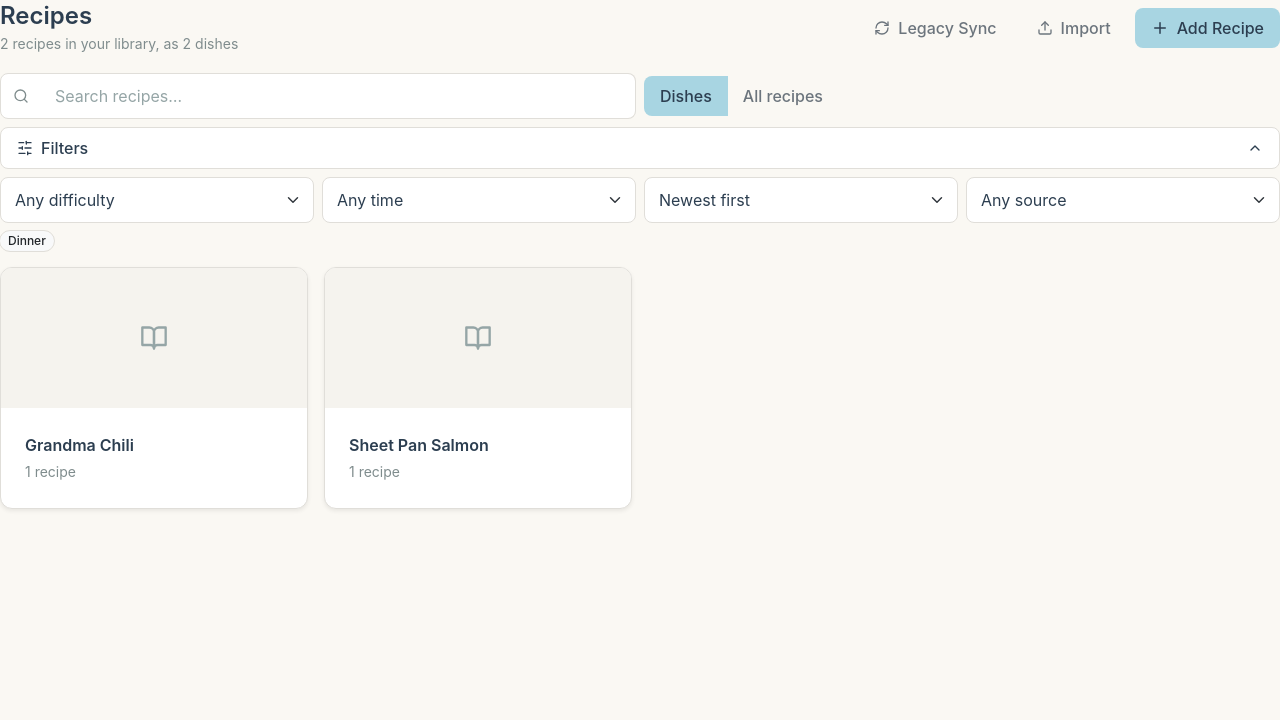
Recipes page — deleting › asks before deleting
The width and height of the screenshot is (1280, 720).
Click the button "All recipes": (783, 96) [727,76,839,116]
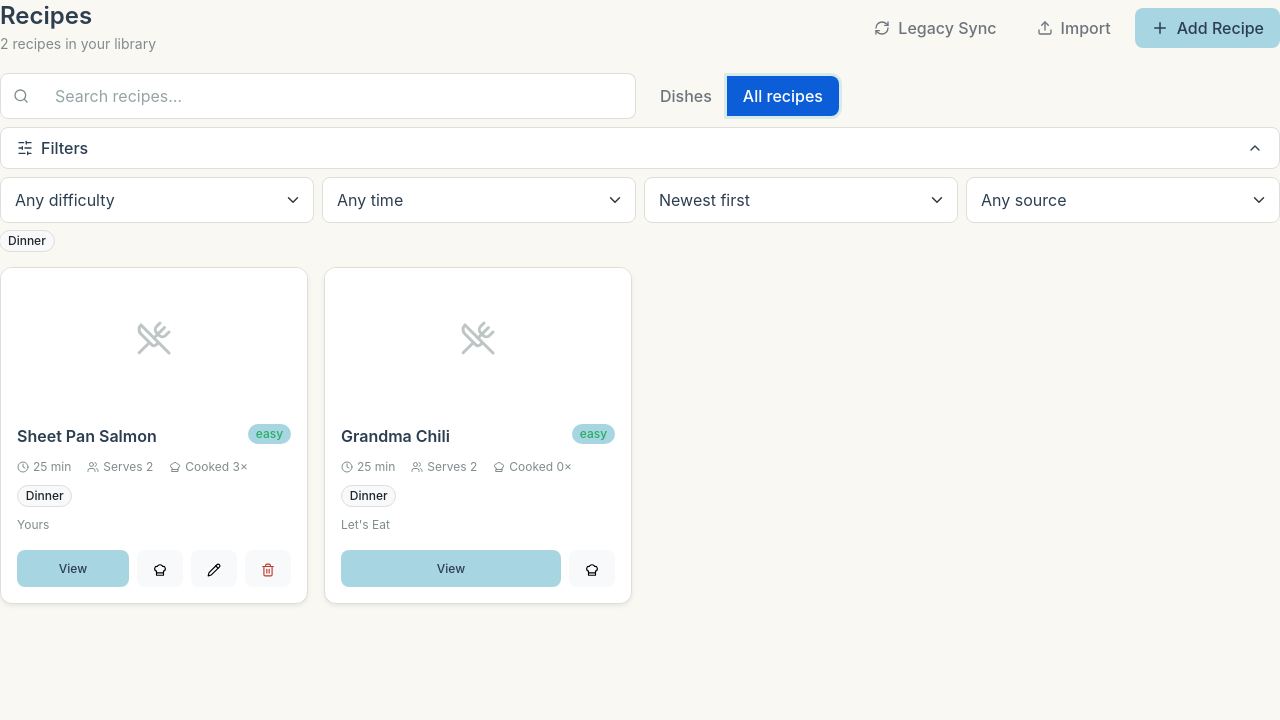
Click the button named "Delete Sheet Pan Salmon": (268, 569) [245,550,291,587]
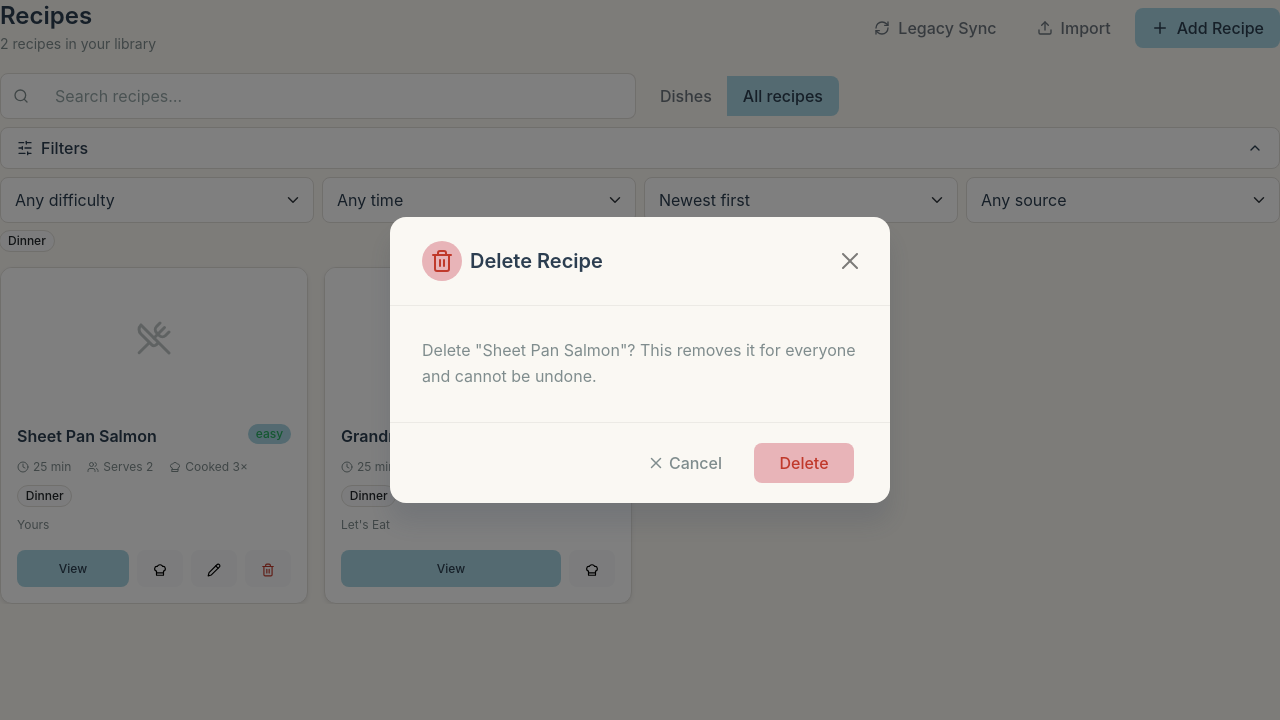
Now the text "Delete \"Sheet Pan Salmon\"?" is shown, box [422,340,856,386]
